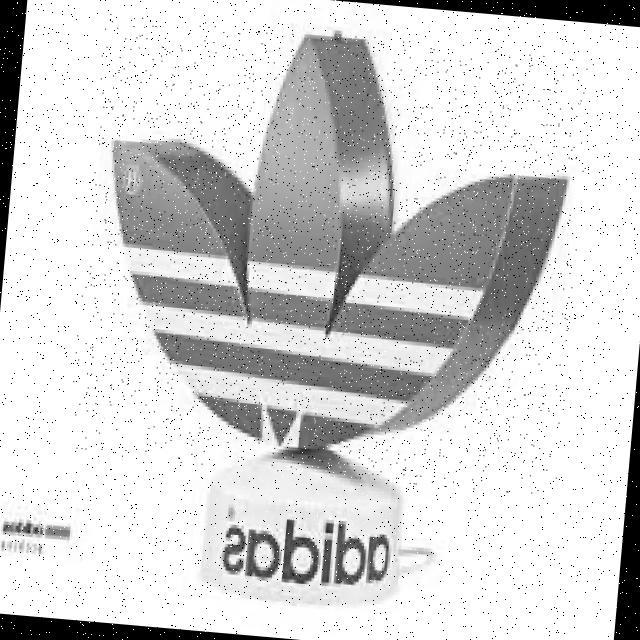Adidas: (67, 13, 595, 496)
